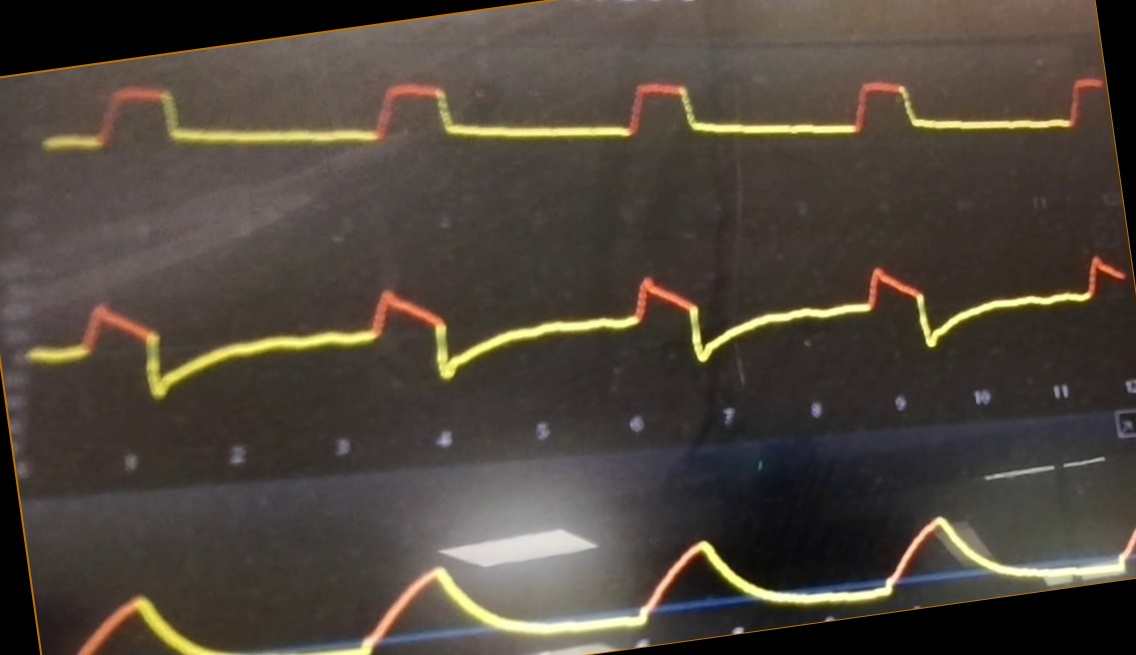Normal Flow: (25, 253, 1123, 401)
Normal Volume: (73, 508, 1135, 655)
